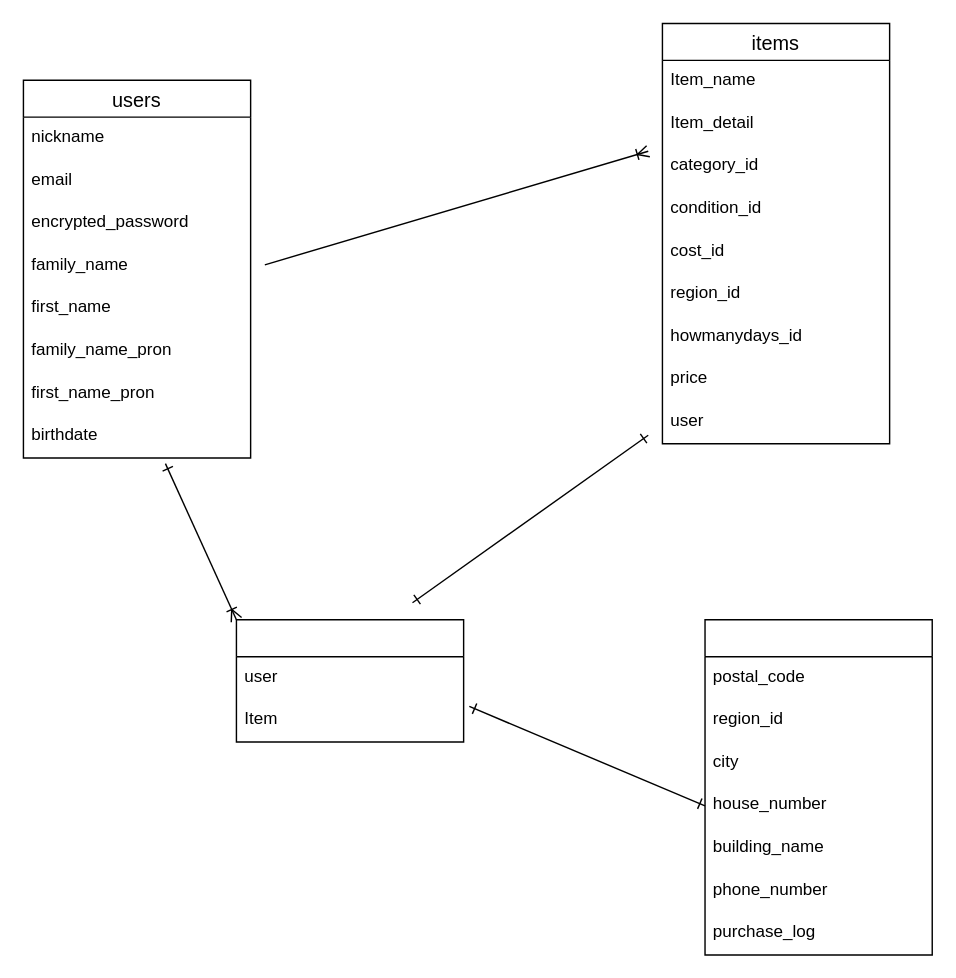
This 956x978 diagram has some shape labels left out. Each missing label, with the box of its shape:
purchase_logs: (235, 618, 464, 742)
shipping_addresses: (704, 618, 932, 955)
